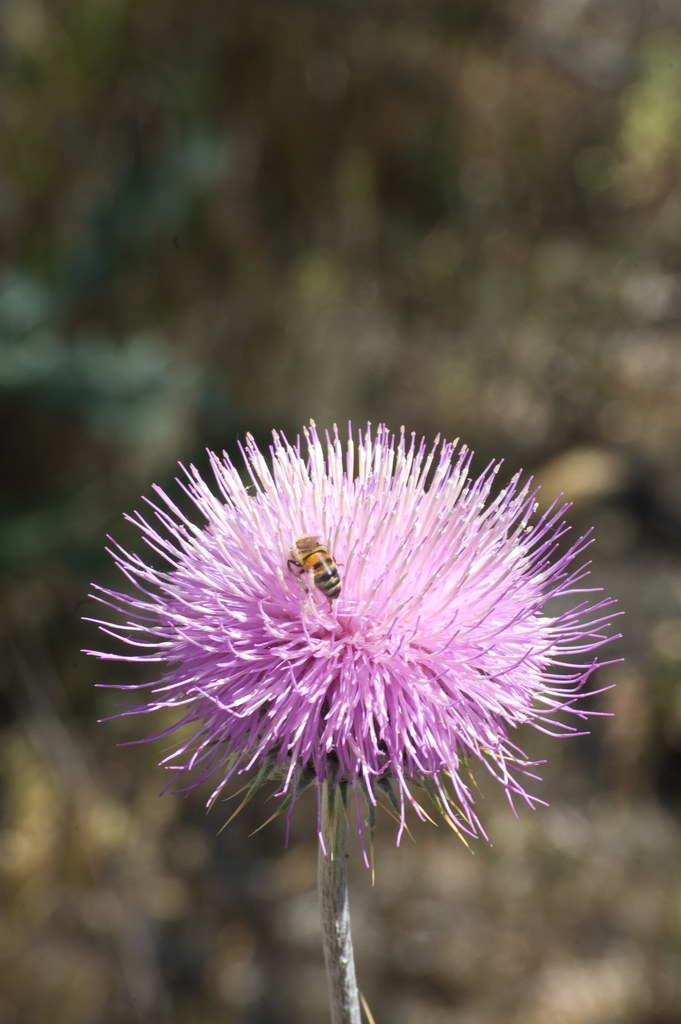bee: (281, 545, 358, 611)
insect: (70, 433, 623, 855)
